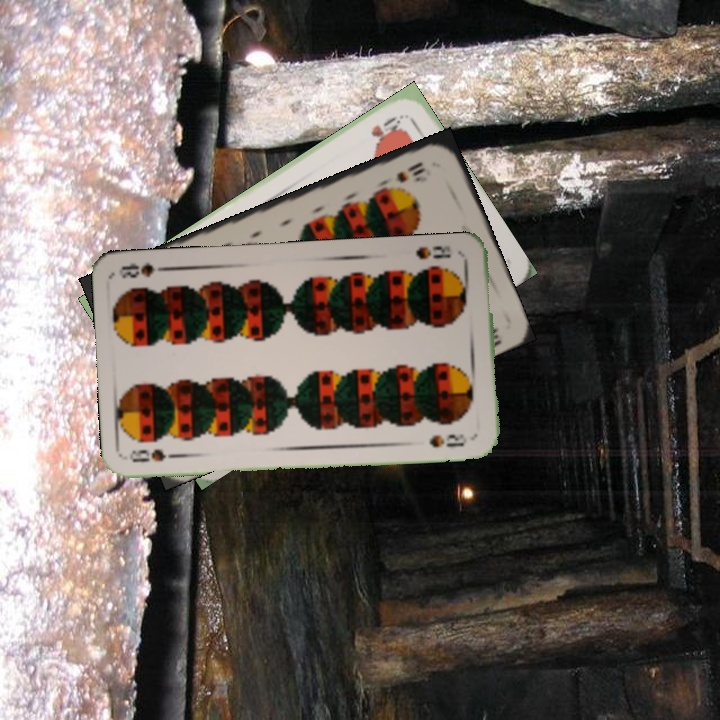HO: (367, 110, 406, 147)
S10: (391, 158, 428, 185)
S8: (126, 445, 185, 465), (412, 241, 453, 262)
